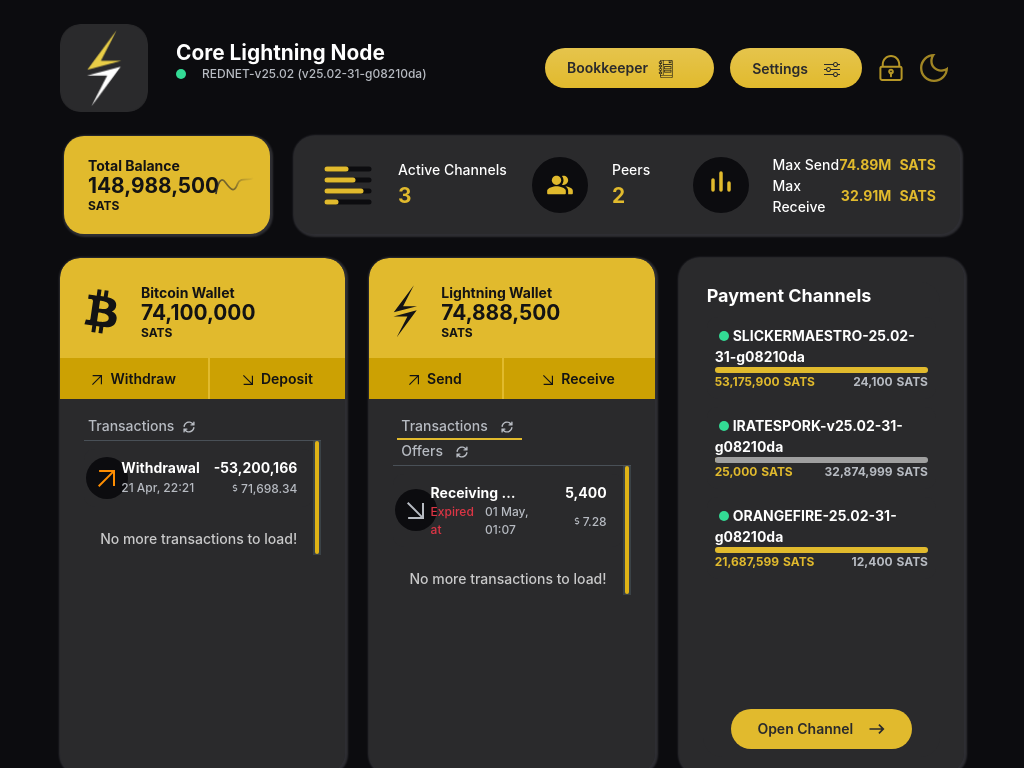
Test case: CLNSend component › should show send card when clicking send action from CLN card
Check: the element with test id "cln-wallet-balance-card" is shown, box [369,258,655,399]
# Click the deposit button
Step 1. Click the button with test id "send-button" → coordinates (435, 378), box [369,358,502,399]
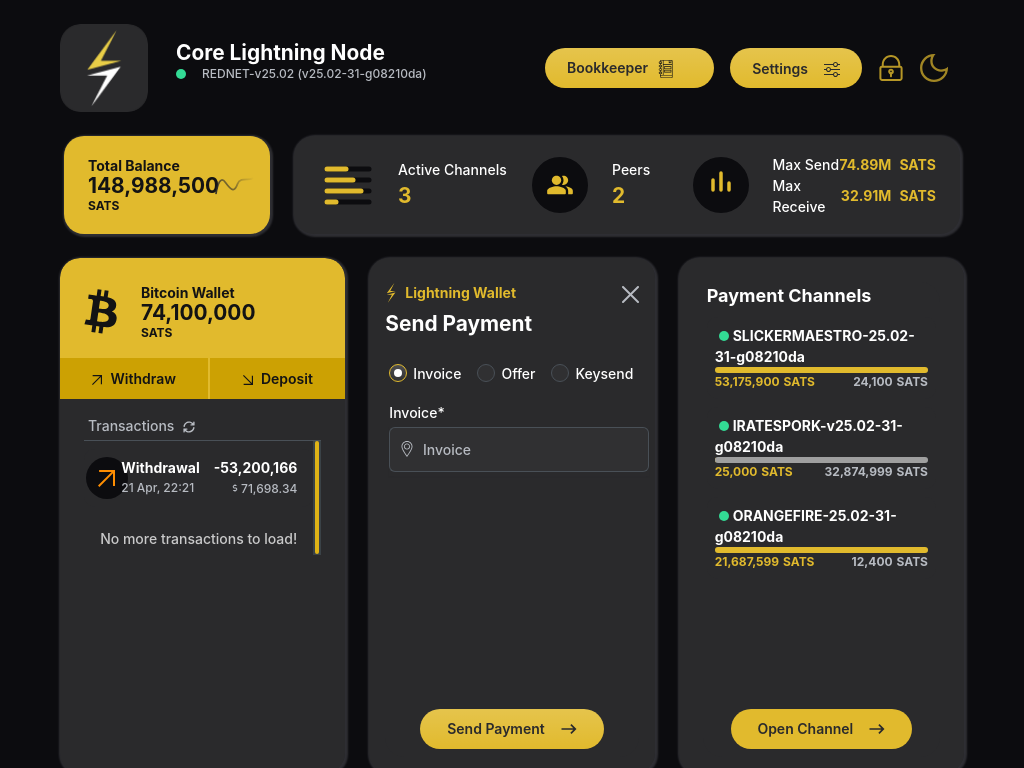
Check: the field with test id "address-input" is shown, box [423,427,649,472]
